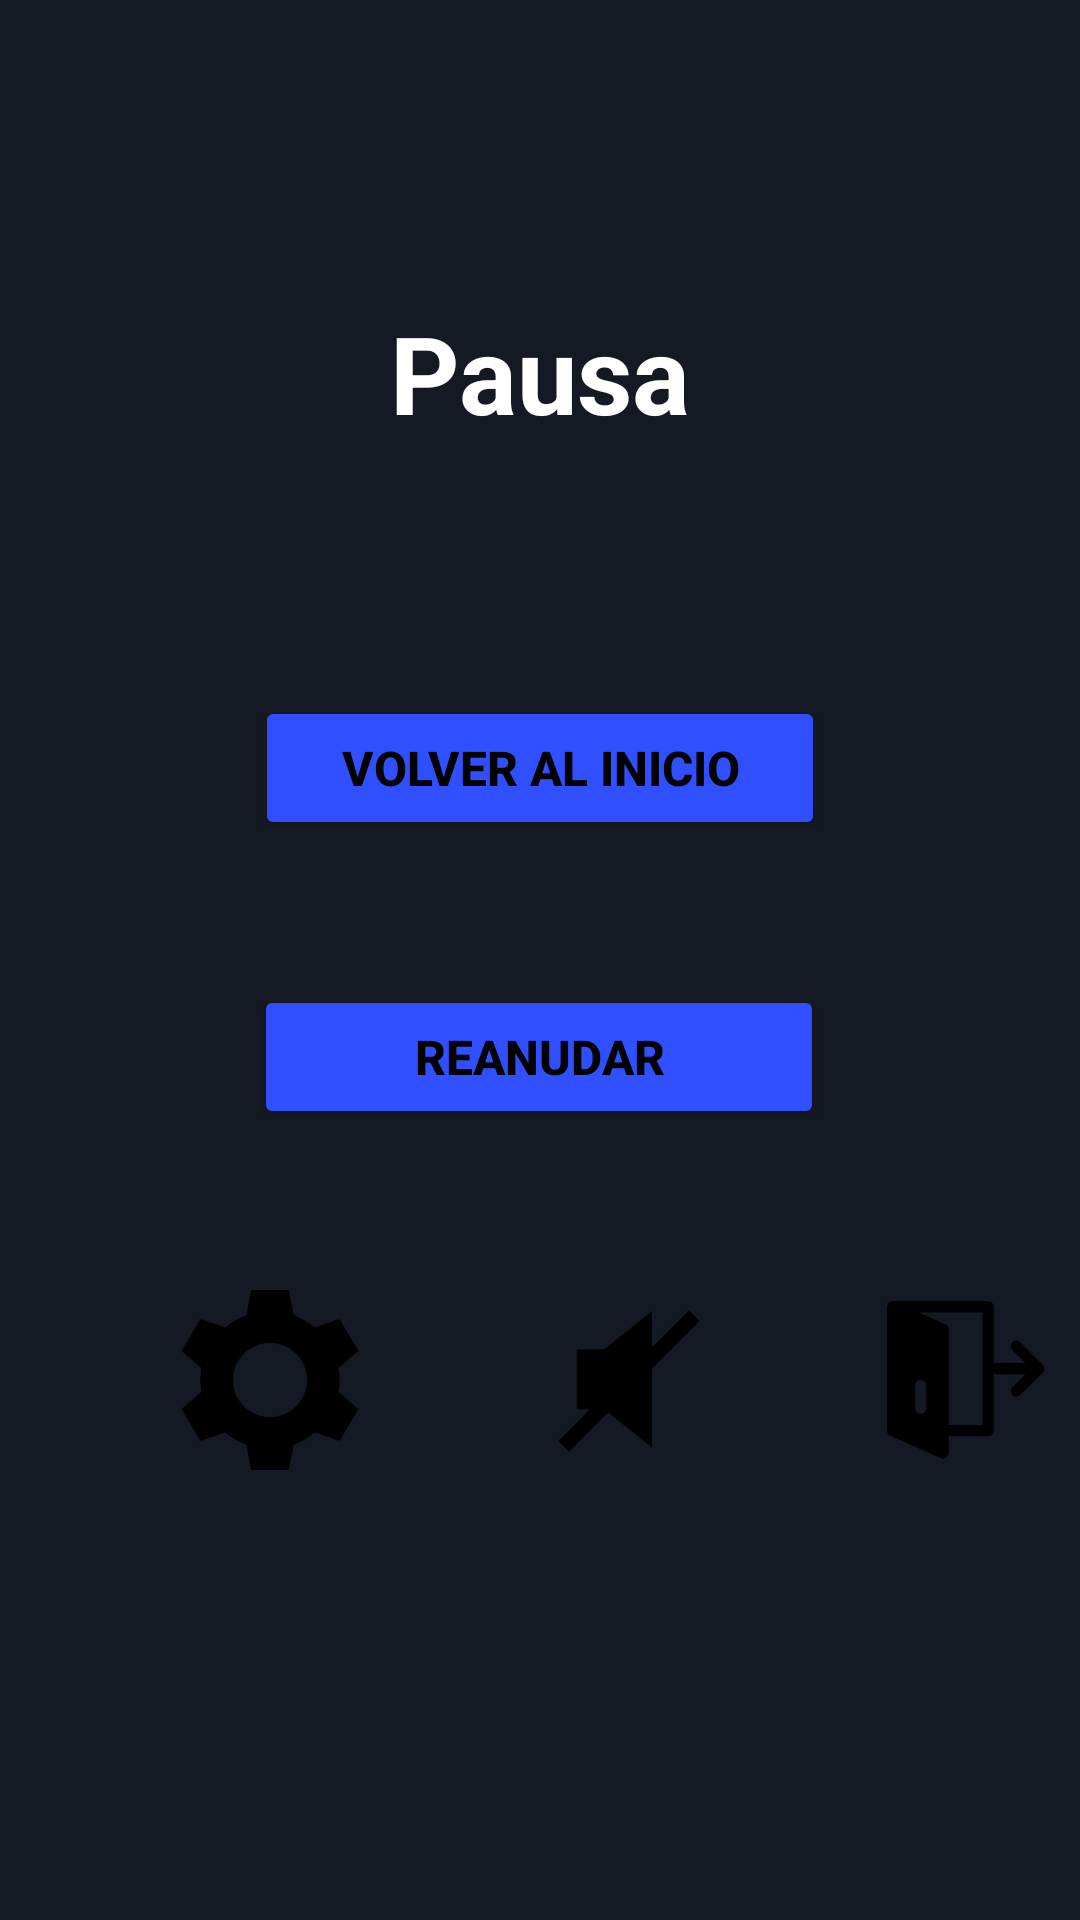

Screen size 1080*1920. Icon name, then its box in pixels as (x1, y1, x2, y2):
mute: (559, 1311, 699, 1451)
Salir: (887, 1301, 1044, 1459)
settings: (182, 1290, 358, 1470)
